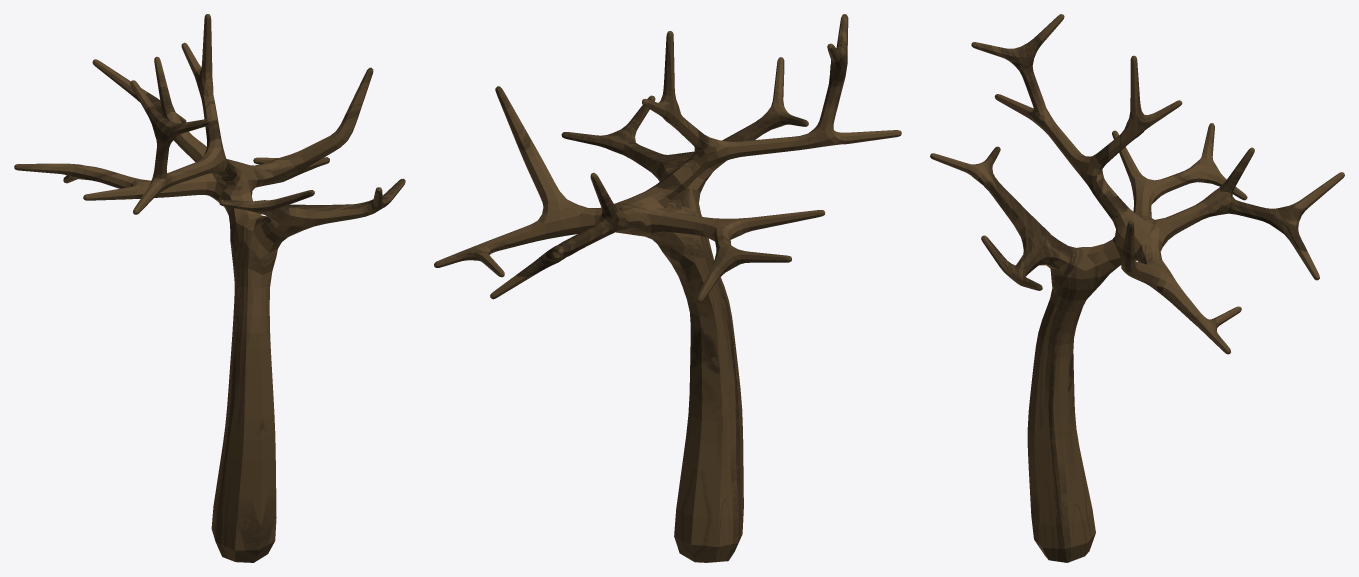
File: oak_tree.glb
3 views of the same model, side by side, from view 1: azimuth 30°, elevation 25°; view 2: azimuth 150°, elevation 25°; view 3: azimuth 270°, elevation 25° (orthographic). The views are drawn at different scales.
Visible parts, largest first — view 1: Cube; view 2: Cube; view 3: Cube.
Part boxes in pixels (left/top/right/bottom): Cube: left=14, top=14, right=405, bottom=562; Cube: left=434, top=14, right=901, bottom=562; Cube: left=930, top=14, right=1344, bottom=562.
Size of the model in its own units: 2.89 by 4.43 by 3.31.
1 material, 1 textured.
